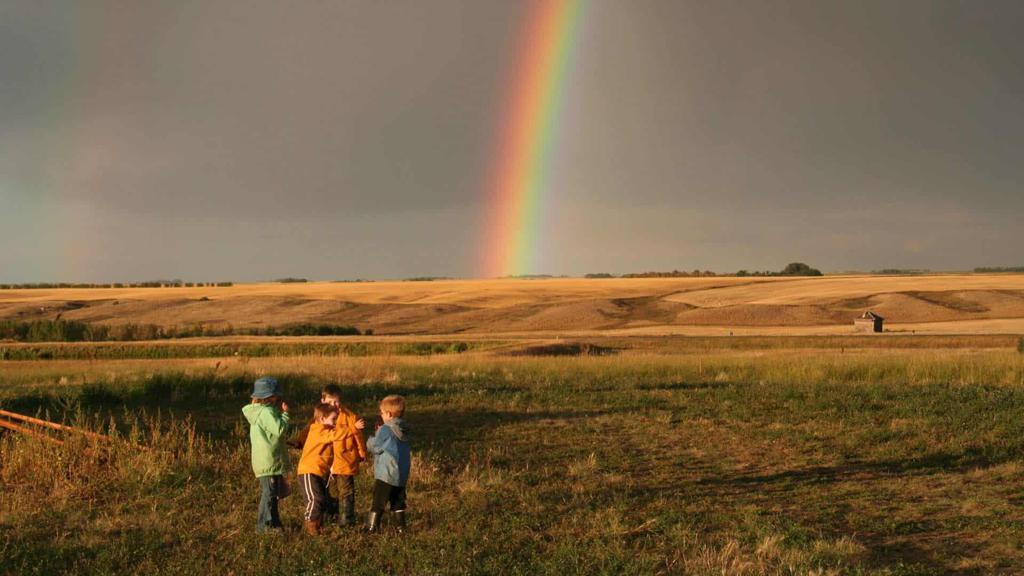child: (236, 368, 296, 529), (361, 392, 415, 532), (316, 378, 365, 526), (290, 407, 344, 539)
